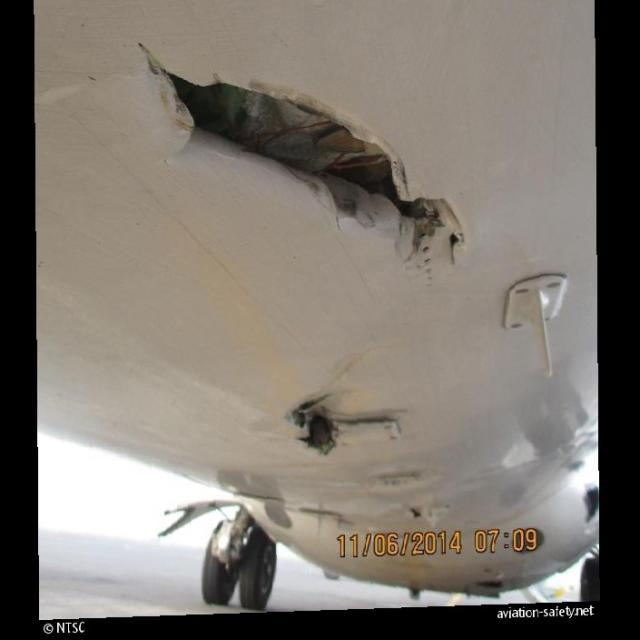crack: (135, 41, 469, 286)
